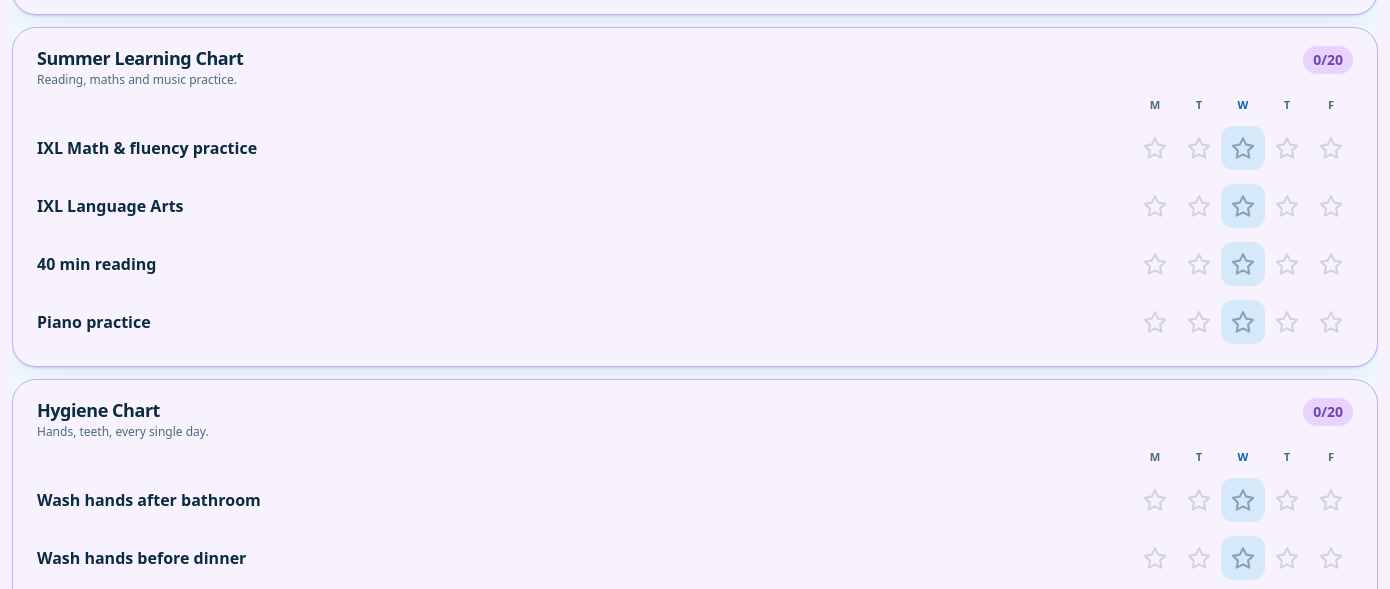
Scenario: colouring in a star › says so when the star could not be saved
The image size is (1390, 589).
(page scrolled)
Click the switch named "Piano practice on " at (1243, 322), box [1221,300,1265,344]
(page scrolled)
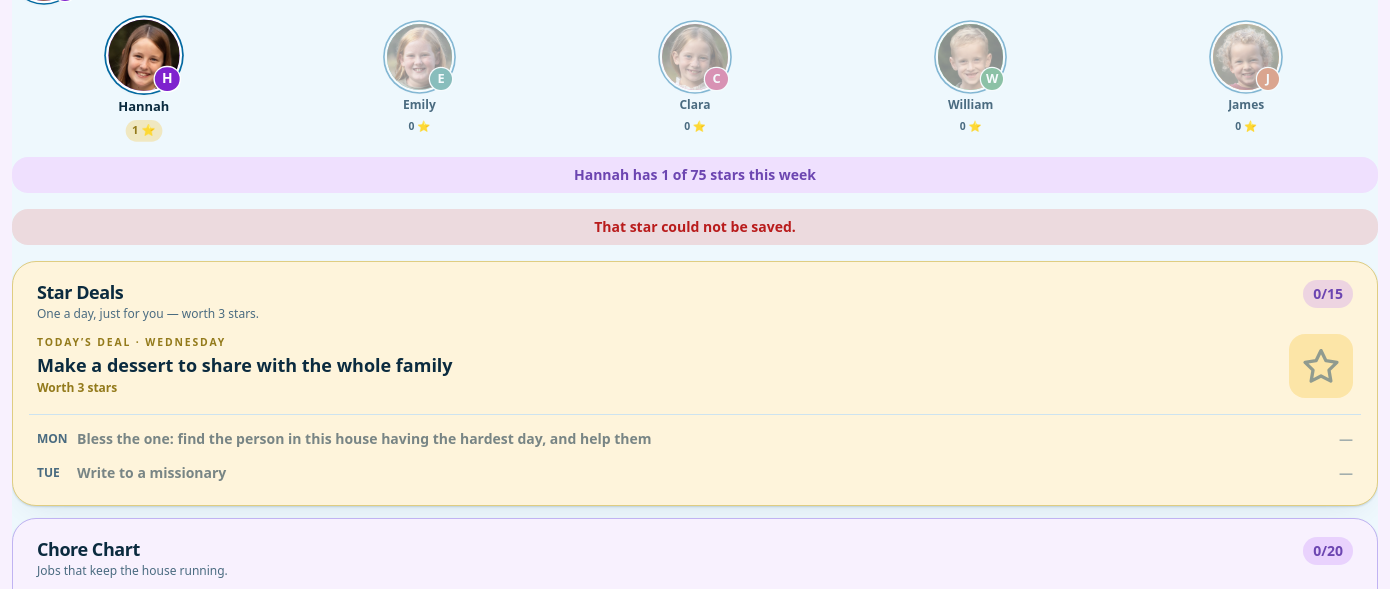
Check: the message reads "That star could not be saved.", box [594,217,796,236]
